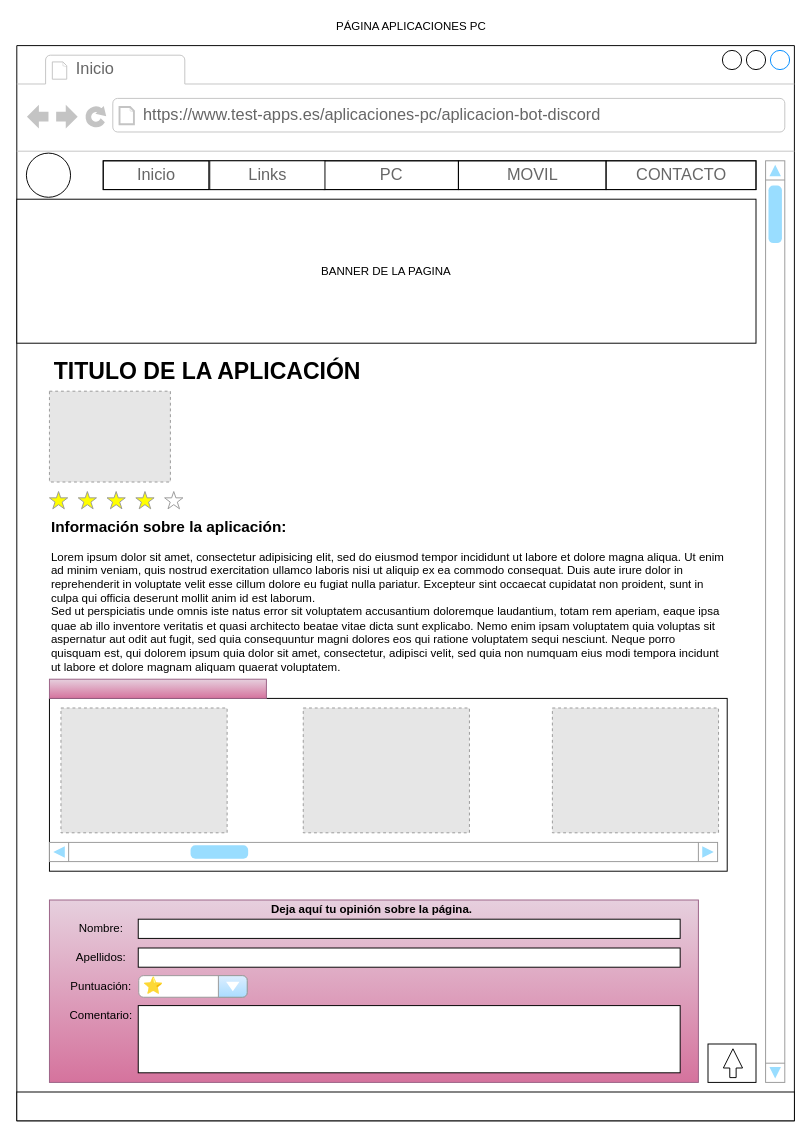
Image size: 811x1138. Some labels were removed from this diagram. Grey dashed boxes stand in for pictures. The centre of each missing label's shape, as x and y in pixels:
Escriba aquí su comentario... (opcional): point 408,1039
FOOTER: point 405,1106
Galería de Imágenes de la Aplicación:: point 157,688
LOGO: point 48,174
